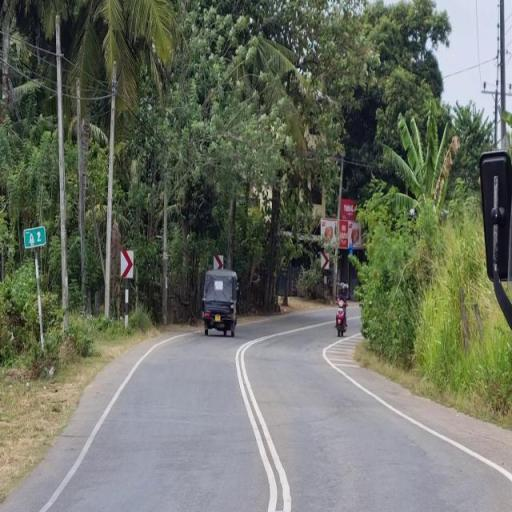double_white_line: (237, 336, 288, 510)
